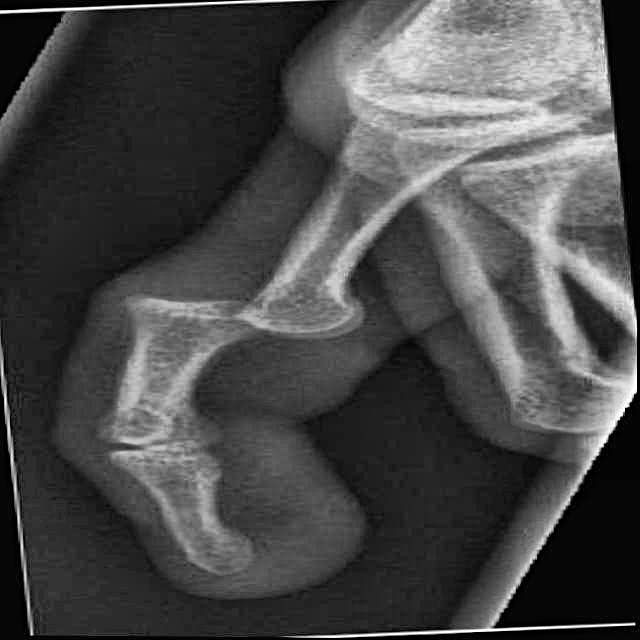Transverse: (70, 254, 382, 367)
